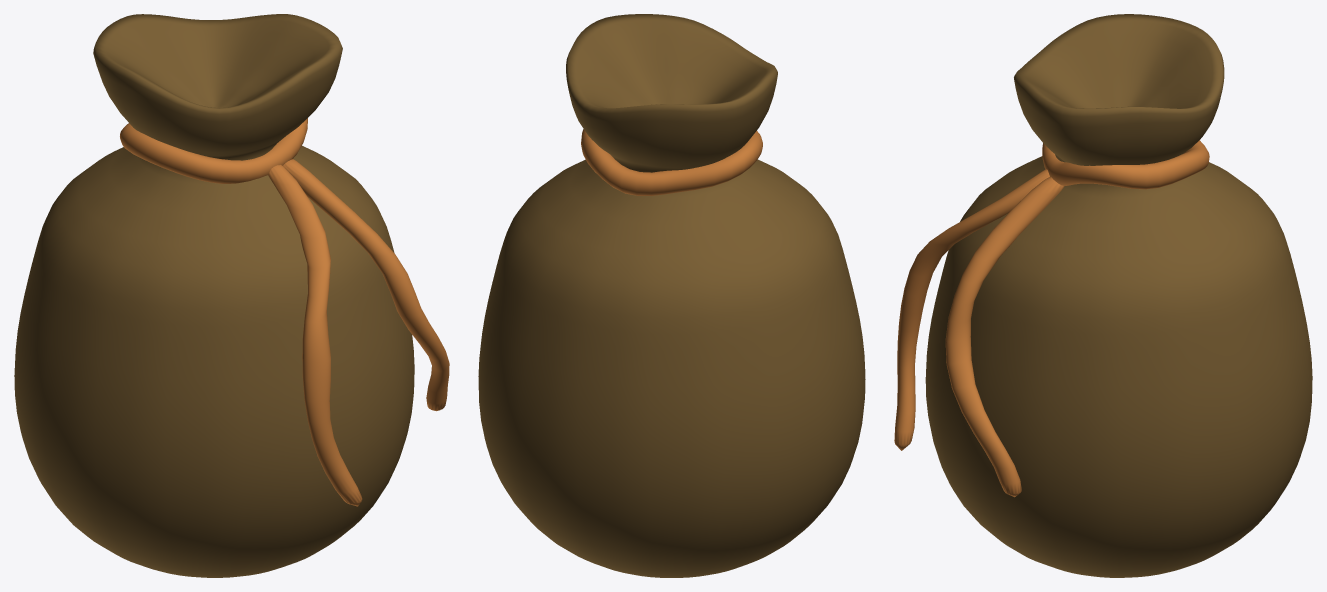
The model's file is kabak-seed 1.fbx.
3 renders of one model, left to right at view 1: azimuth 30°, elevation 25°; view 2: azimuth 150°, elevation 25°; view 3: azimuth 270°, elevation 25°, orthographic. The views are drawn at different scales.
Visible parts, largest first — view 1: Cylinder.095; view 2: Cylinder.095; view 3: Cylinder.095.
Part boxes in pixels (x1,y1,x2,y2): Cylinder.095: (14,14,449,577); Cylinder.095: (478,14,865,577); Cylinder.095: (894,14,1312,577).
Bounding box in the file's own units: 16.26 × 22.4 × 17.49.
